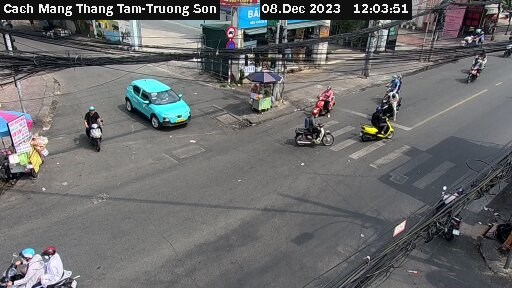car: (122, 77, 199, 138)
motorbike: (1, 241, 92, 288), (70, 105, 125, 155), (434, 183, 477, 242), (293, 115, 334, 156), (360, 110, 397, 145), (371, 90, 407, 119), (308, 85, 340, 116), (461, 52, 489, 84), (384, 71, 409, 104)
